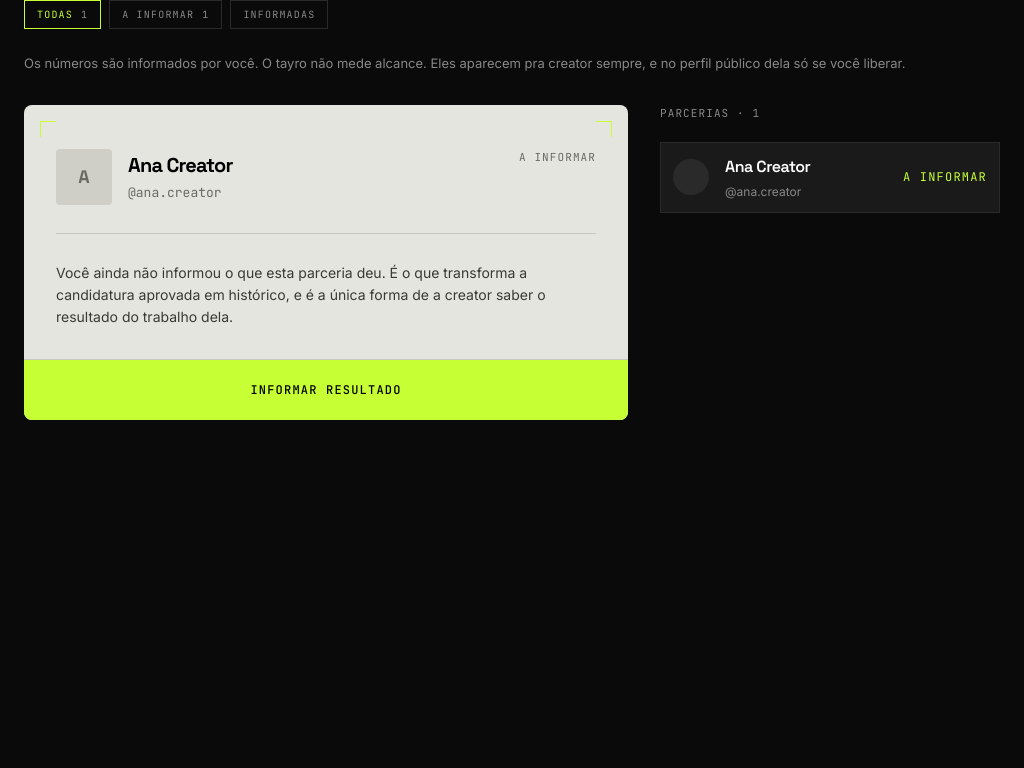
Test: CampaignResultsTab › mostra a mensagem de erro da API sem fechar o formulário
This screenshot has width=1024, height=768.
Click the button "Informar resultado".
click(326, 390)  # box 24,360 -> 628,420
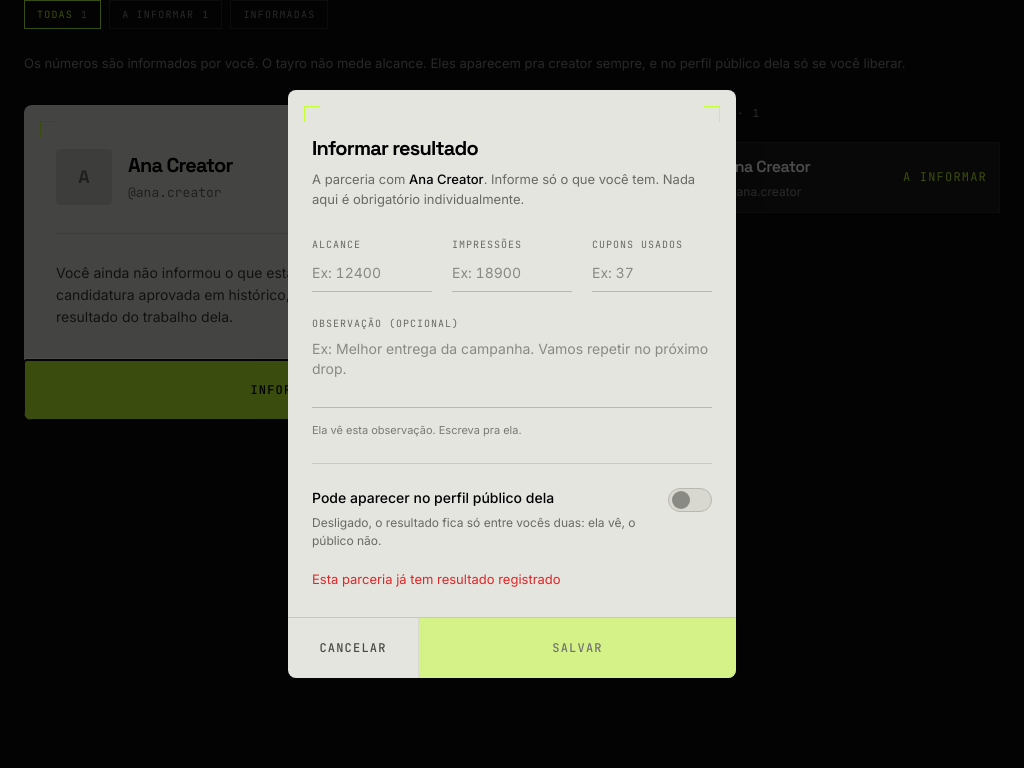
expect the text "Esta parceria já tem resultado registrado" is shown: met, box 312,570 -> 561,586
